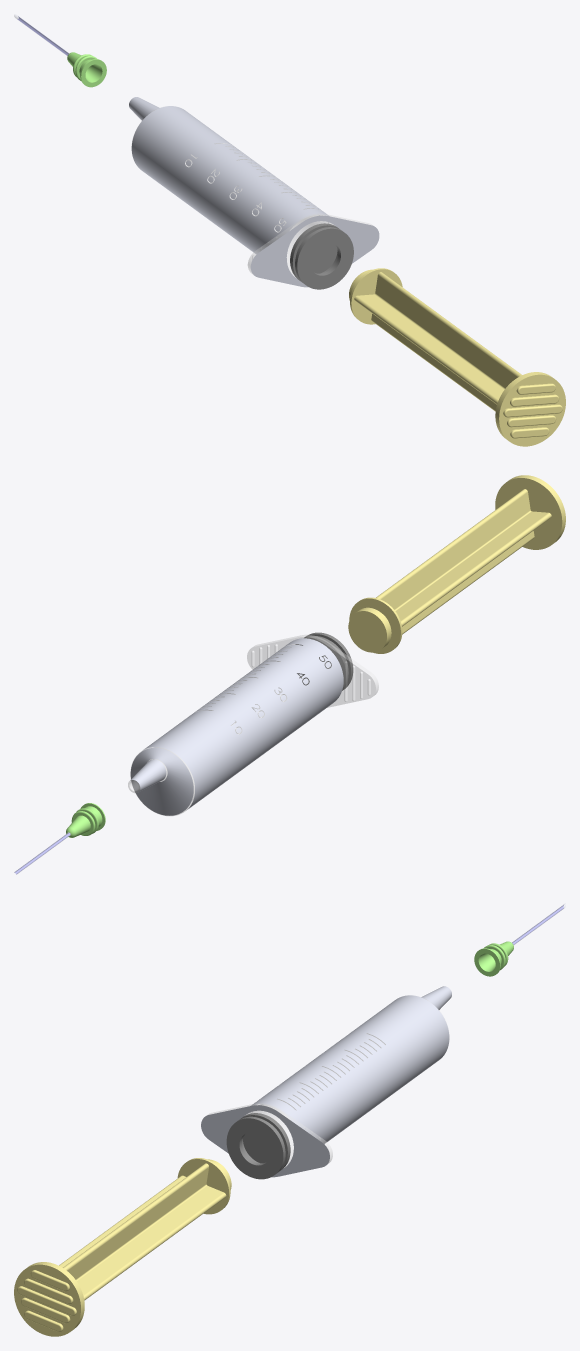
File: syringe_exploded.gltf
3 renders of one model, top to bottom at view 1: azimuth 30°, elevation 25°; view 2: azimuth 150°, elevation 25°; view 3: azimuth 330°, elevation 25°, orthographic.
Parts seen in each view (by area): view 1: Vaccine Body-1, Vaccine Plunger-1, Vaccine rubber-2, Vaccine last one-1; view 2: Vaccine Body-1, Vaccine Plunger-1, Vaccine last one-1, Vaccine rubber-2; view 3: Vaccine Body-1, Vaccine Plunger-1, Vaccine rubber-2, Vaccine last one-1.
Boxes of the visible parts, bbox=[...] form: Vaccine Body-1: bbox=[129, 97, 379, 287]; Vaccine Plunger-1: bbox=[349, 268, 565, 446]; Vaccine rubber-2: bbox=[290, 223, 353, 289]; Vaccine last one-1: bbox=[14, 14, 106, 87]; Vaccine Body-1: bbox=[128, 635, 378, 815]; Vaccine Plunger-1: bbox=[348, 475, 565, 653]; Vaccine last one-1: bbox=[14, 803, 105, 874]; Vaccine rubber-2: bbox=[295, 632, 353, 690]; Vaccine Body-1: bbox=[201, 986, 451, 1177]; Vaccine Plunger-1: bbox=[14, 1158, 231, 1336]; Vaccine rubber-2: bbox=[226, 1113, 290, 1179]; Vaccine last one-1: bbox=[474, 903, 565, 976].
Size of the model in its own units: 0.0499 by 0.026 by 0.3489.
